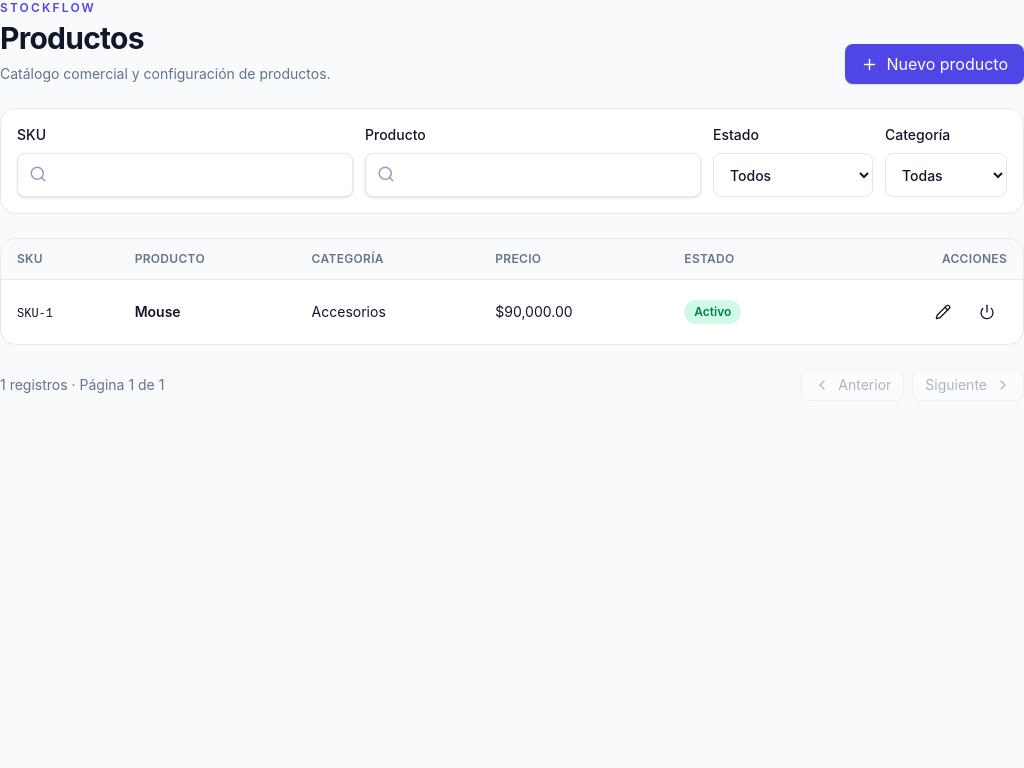
Test: ProductsPage › abre creación, edición y desactivación
Expected: the text "Mouse" is shown, [135,303,181,320]
Click the button "Nuevo producto".
click(935, 64)  # box [846,44,1023,84]
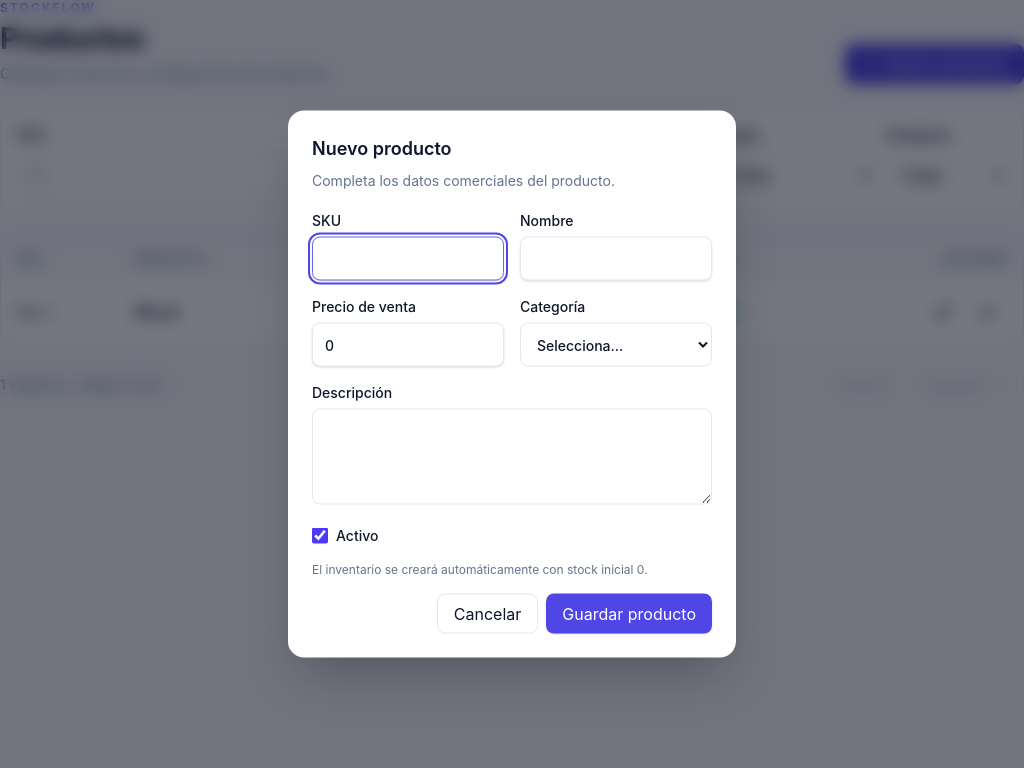
Expected: the heading "Nuevo producto" is shown, [312,138,452,158]
Click the button "Cancelar".
click(488, 614)  # box [437,594,538,634]
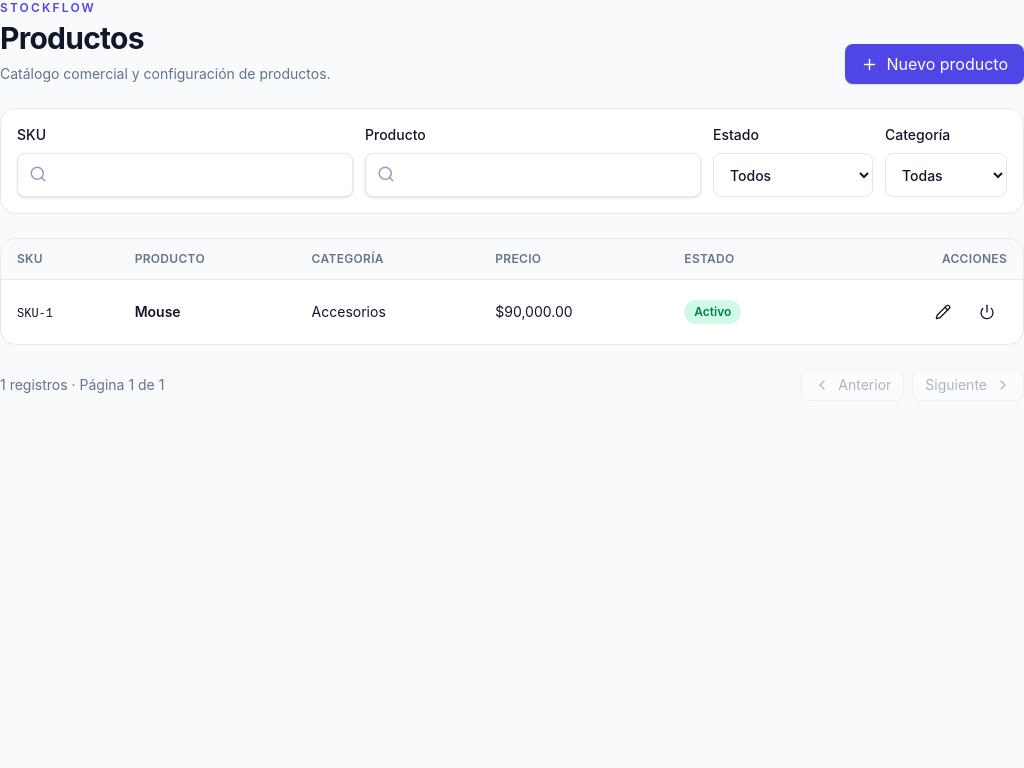
Click the button named "Editar".
click(943, 312)  # box [923,292,963,332]
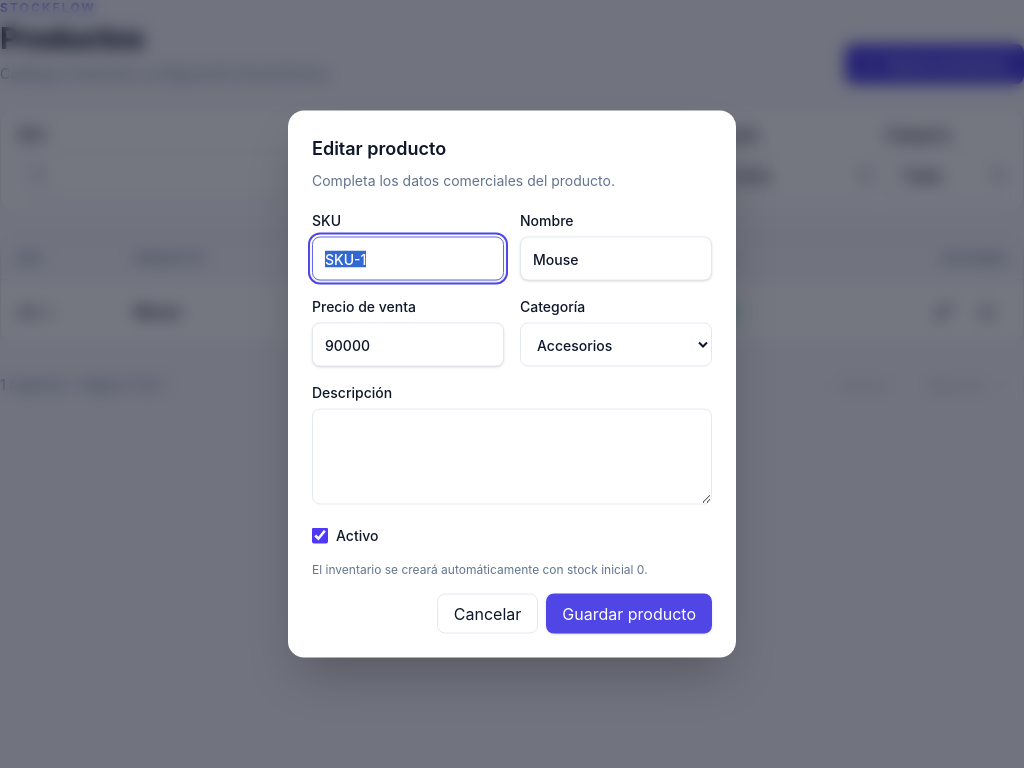
Expected: the field showing "Mouse" is shown, [520,236,712,280]
Click the button "Cancelar".
click(488, 614)  # box [437,594,538,634]
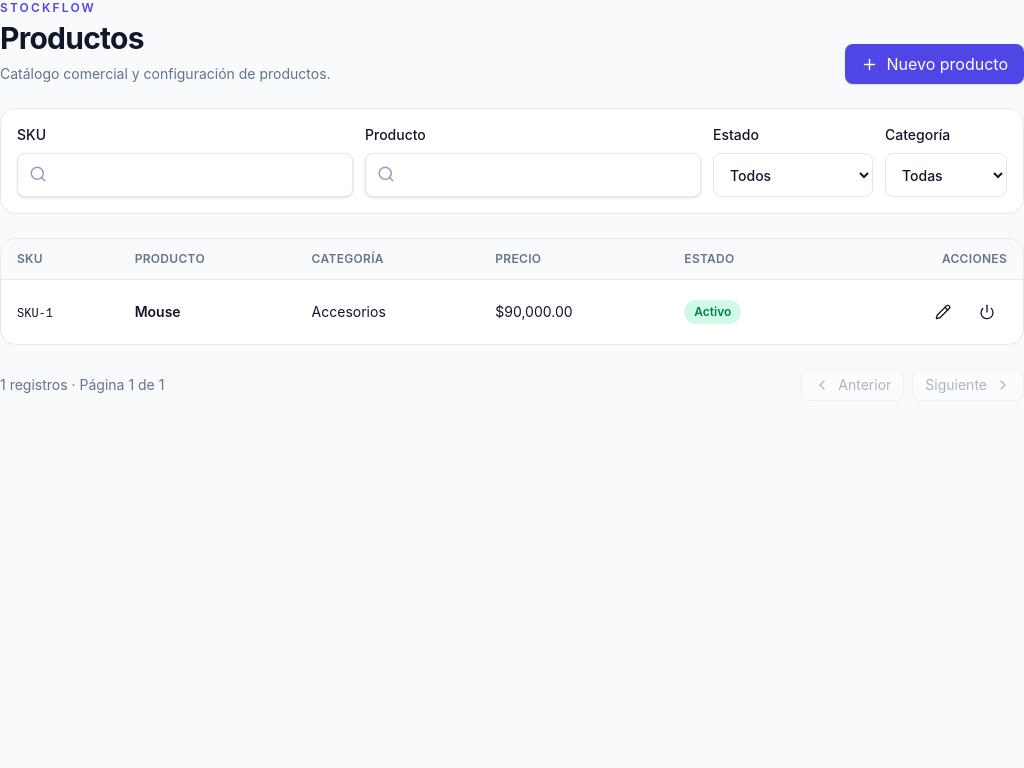
Click the button named "Desactivar".
click(987, 312)  # box [967,292,1007,332]
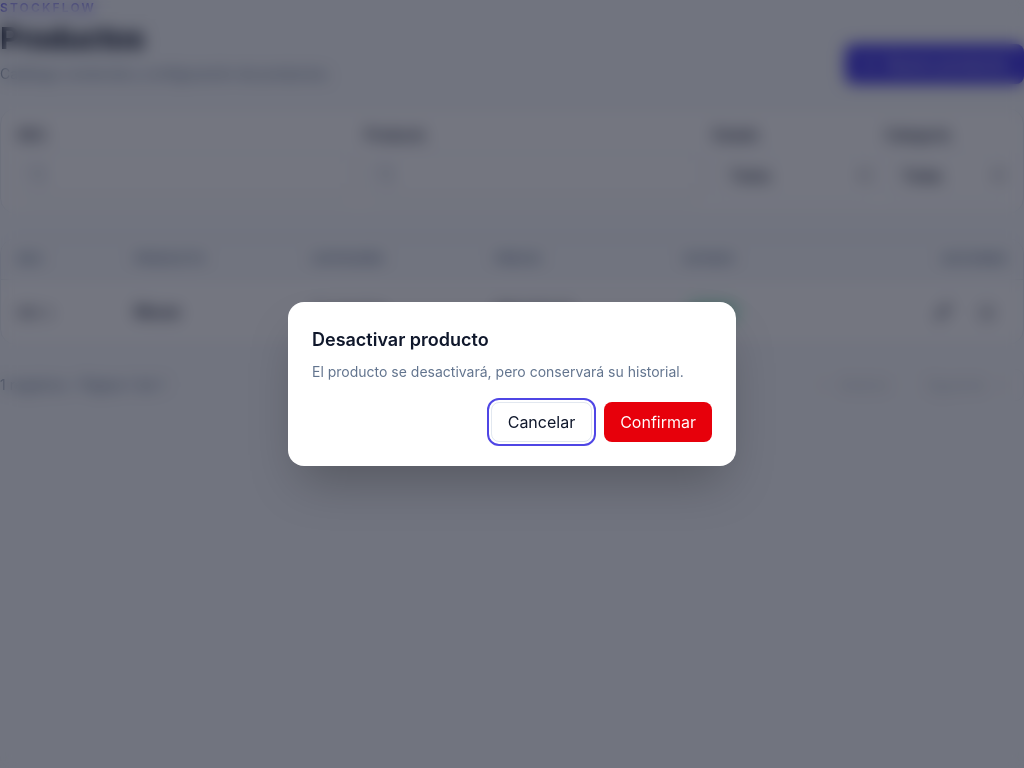
Expected: the text "El producto se desactivará, pero conservará su historial." is shown, [312,362,712,382]
